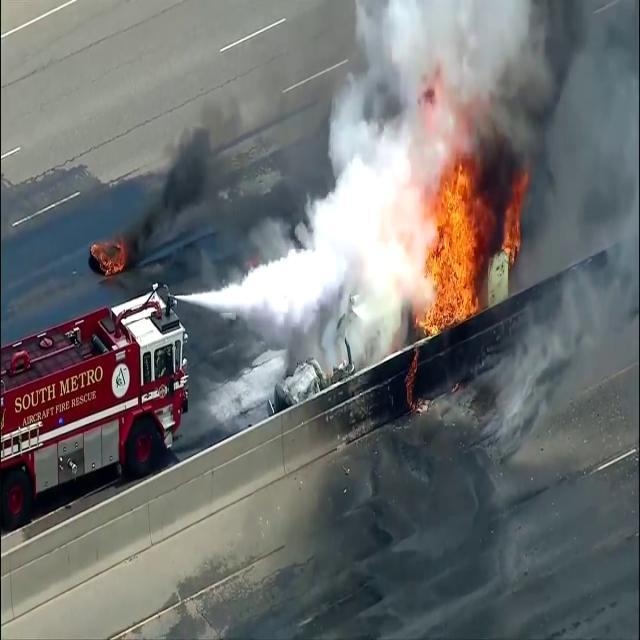Fire: (420, 162, 482, 331)
Smoke: (308, 1, 638, 366), (116, 57, 285, 292)
